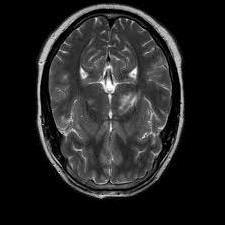Normal_Brain: (9, 9, 220, 214)
